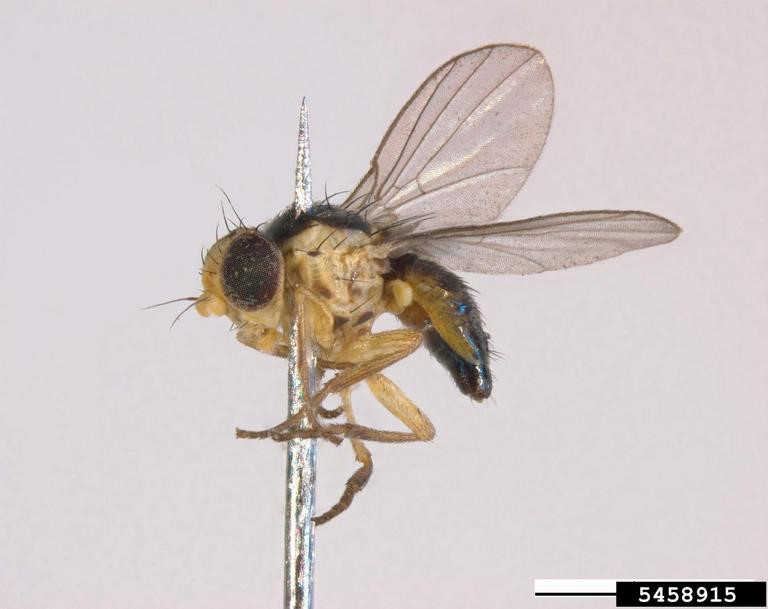Trifoli: (185, 32, 630, 511)
